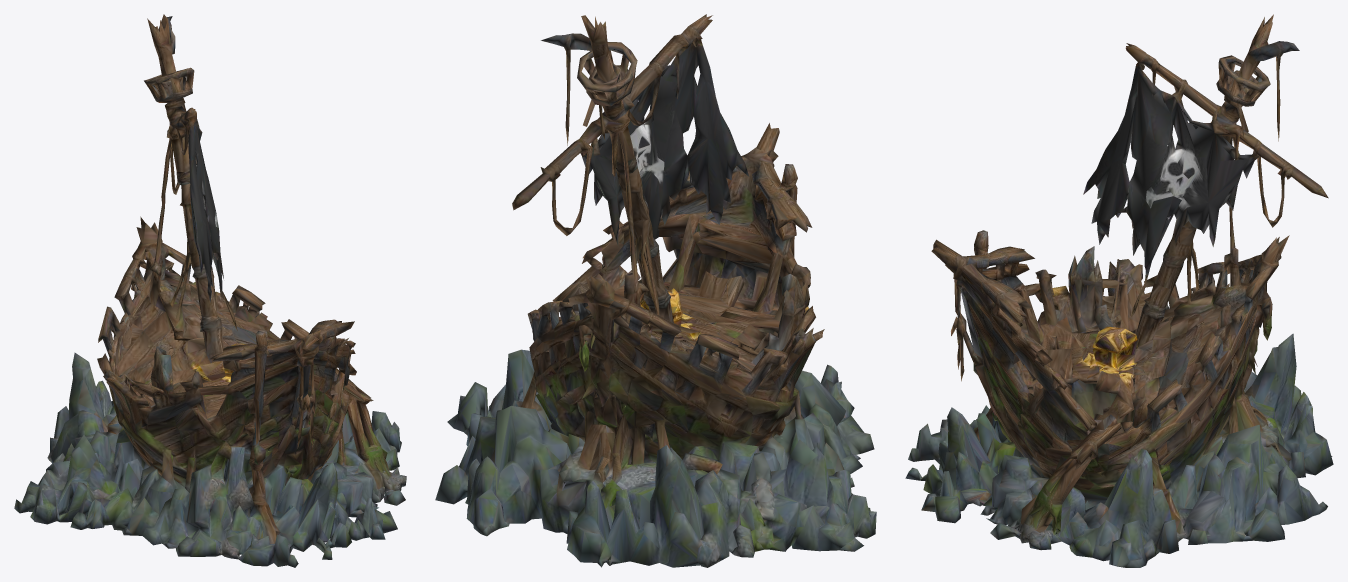
The model's file is shipwreck_chest.glb.
3 views of the same model, side by side, from view 1: azimuth 30°, elevation 25°; view 2: azimuth 150°, elevation 25°; view 3: azimuth 270°, elevation 25° (orthographic). The views are drawn at different scales.
Parts seen in each view (by area): view 1: Model; view 2: Model; view 3: Model.
Boxes of the visible parts, box(x1,y1,x2,y2) form: Model: box(14, 14, 406, 567); Model: box(435, 14, 876, 567); Model: box(905, 14, 1333, 567).
Bounding box in the file's own units: 24.97 × 28 × 23.75.
Materials: 1 (1 with a texture image).
